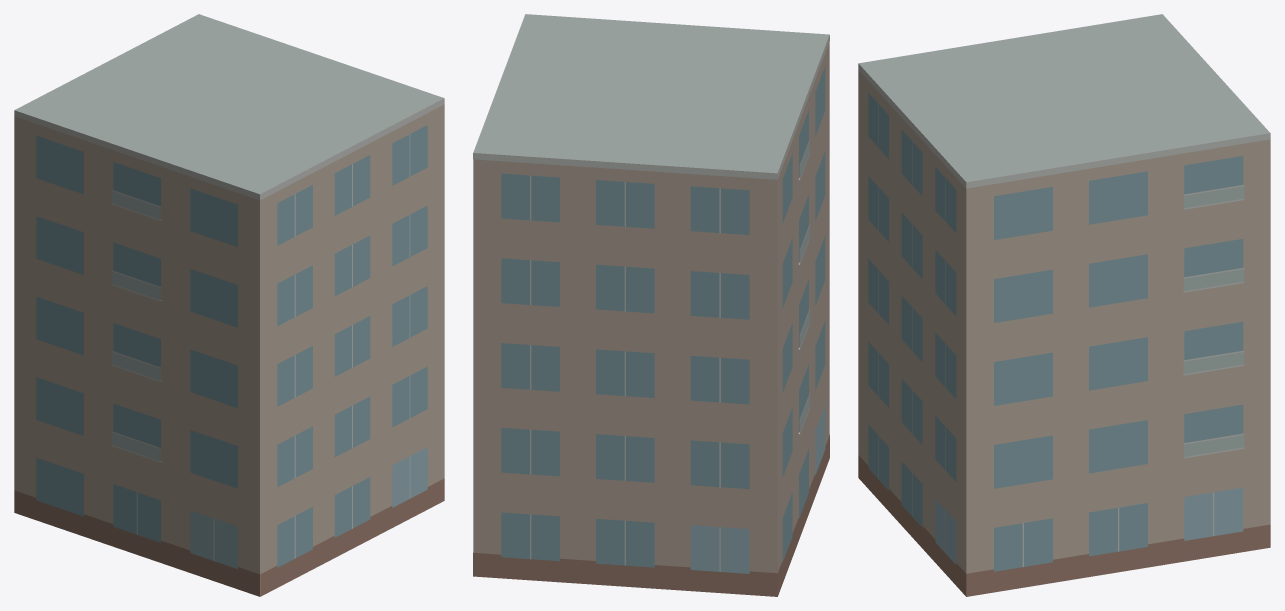
The model's file is survey-upis-32834074.glb.
The picture shows the model from 3 angles, left to right: view 1: azimuth 30°, elevation 25°; view 2: azimuth 150°, elevation 25°; view 3: azimuth 270°, elevation 25°; orthographic projection. The views are drawn at different scales.
Visible parts, largest first — view 1: survey-upis-32834074.tmp; view 2: survey-upis-32834074.tmp; view 3: survey-upis-32834074.tmp.
Boxes of the visible parts, bbox=[...] form: survey-upis-32834074.tmp: bbox=[14, 14, 444, 596]; survey-upis-32834074.tmp: bbox=[473, 14, 829, 596]; survey-upis-32834074.tmp: bbox=[858, 14, 1270, 596].
Bounding box in the file's own units: 14.04 × 16.11 × 14.53.
